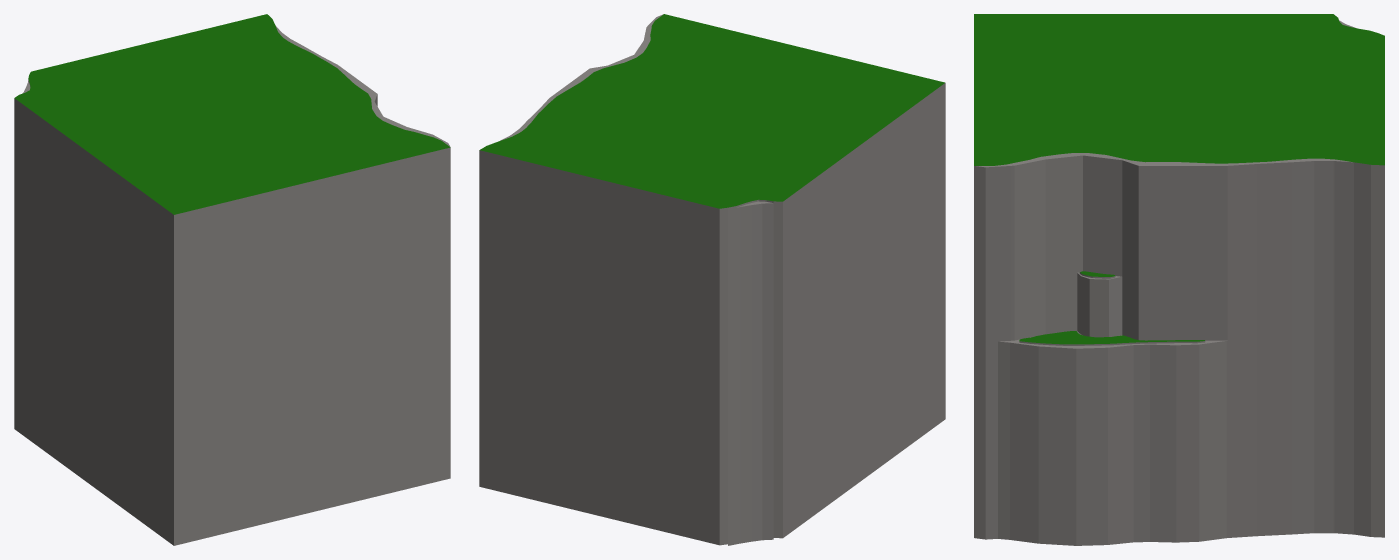
The model's file is PTW.fbx.
3 renders of one model, left to right at view 1: azimuth 30°, elevation 25°; view 2: azimuth 150°, elevation 25°; view 3: azimuth 270°, elevation 25°, orthographic. The views are drawn at different scales.
Parts seen in each view (by area): view 1: Plane.025; view 2: Plane.025; view 3: Plane.025.
Boxes of the visible parts, x1=… form: Plane.025: x1=14, y1=14, x2=450, y2=545; Plane.025: x1=479, y1=14, x2=945, y2=545; Plane.025: x1=974, y1=14, x2=1384, y2=545.
Size of the model in its own units: 92.04 by 101 by 100.
